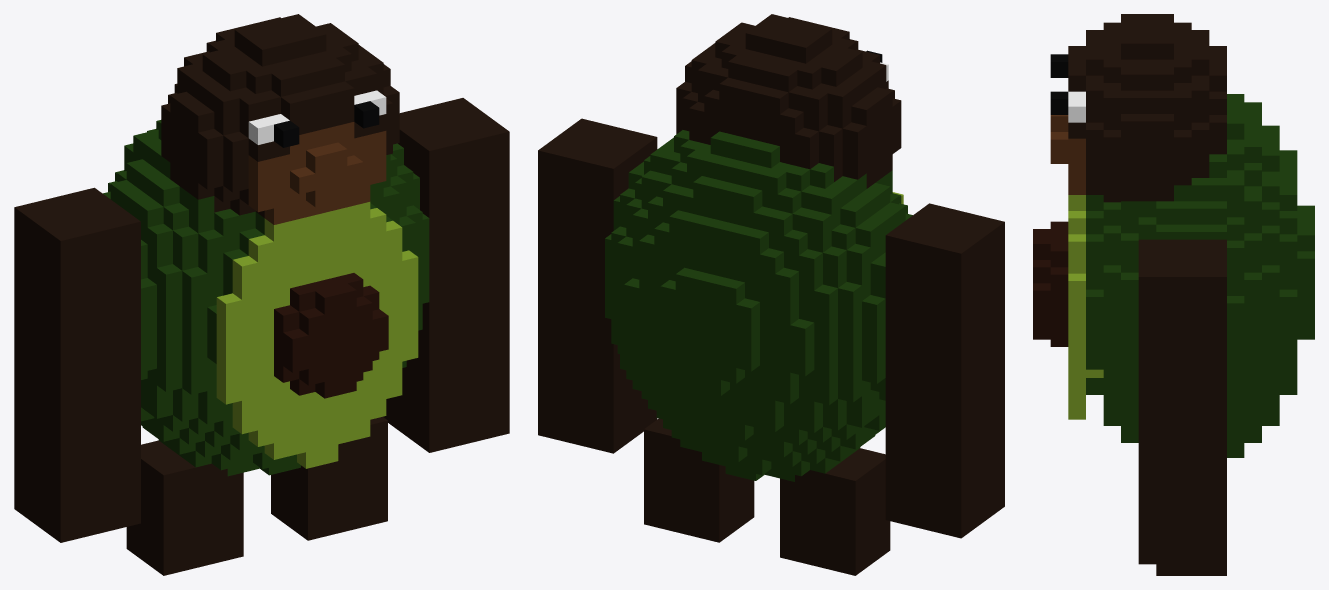
The model's file is avocadorilla.glb.
The picture shows the model from 3 angles, left to right: view 1: azimuth 30°, elevation 25°; view 2: azimuth 150°, elevation 25°; view 3: azimuth 270°, elevation 25°; orthographic projection. The views are drawn at different scales.
Visible parts, largest first — view 1: brainrot; view 2: brainrot; view 3: brainrot.
Part boxes in pixels (x1,y1,x2,y2): brainrot: (14,14,509,575); brainrot: (538,14,1004,575); brainrot: (1033,14,1314,575).
Bounding box in the file's own units: 4.52 × 5 × 2.58.
1 material, 1 textured.
